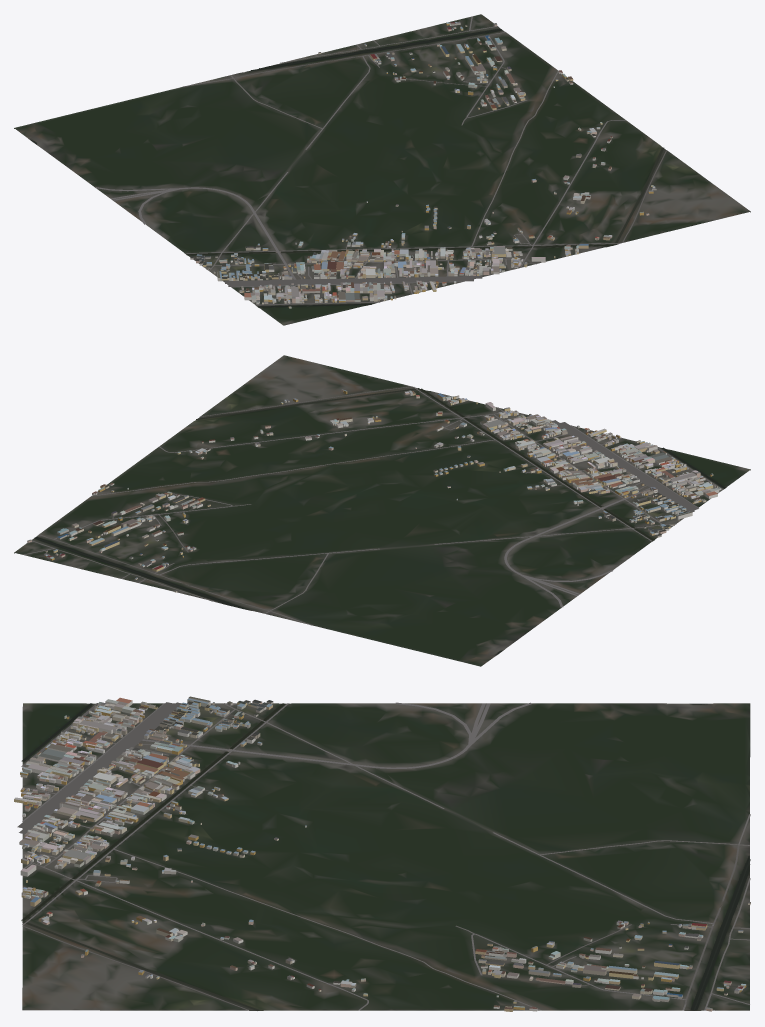
3 views of the same model, one above another, from view 1: azimuth 30°, elevation 25°; view 2: azimuth 150°, elevation 25°; view 3: azimuth 270°, elevation 25° (orthographic). The views are drawn at different scales.
Parts seen in each view (by area): view 1: ground, buildings, roads, water; view 2: ground, buildings, roads, water; view 3: ground, buildings, roads, water.
Part boxes in pixels (x1,y1,x2,y2): ground: (14, 14, 750, 325); buildings: (190, 21, 656, 308); roads: (95, 16, 667, 305); water: (30, 28, 664, 307); ground: (14, 355, 750, 666); buildings: (27, 389, 721, 592); roads: (23, 386, 723, 625); water: (34, 388, 725, 654); ground: (22, 703, 750, 1010); buildings: (14, 696, 750, 1011); roads: (17, 702, 750, 1010); water: (21, 703, 750, 1010).
Size of the model in its own units: 1417 by 17.36 by 1419.
